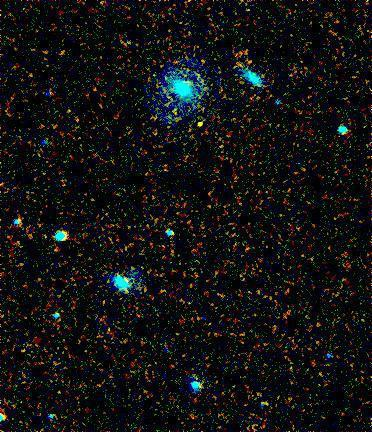star: (185, 109, 215, 139)
